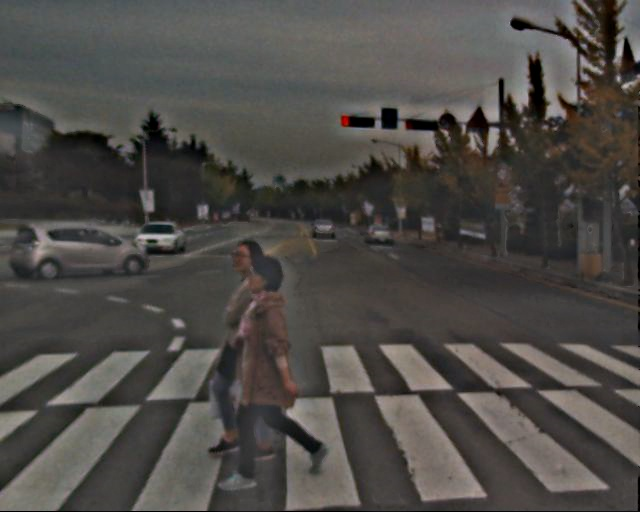person: (217, 250, 314, 488), (207, 236, 295, 462)
